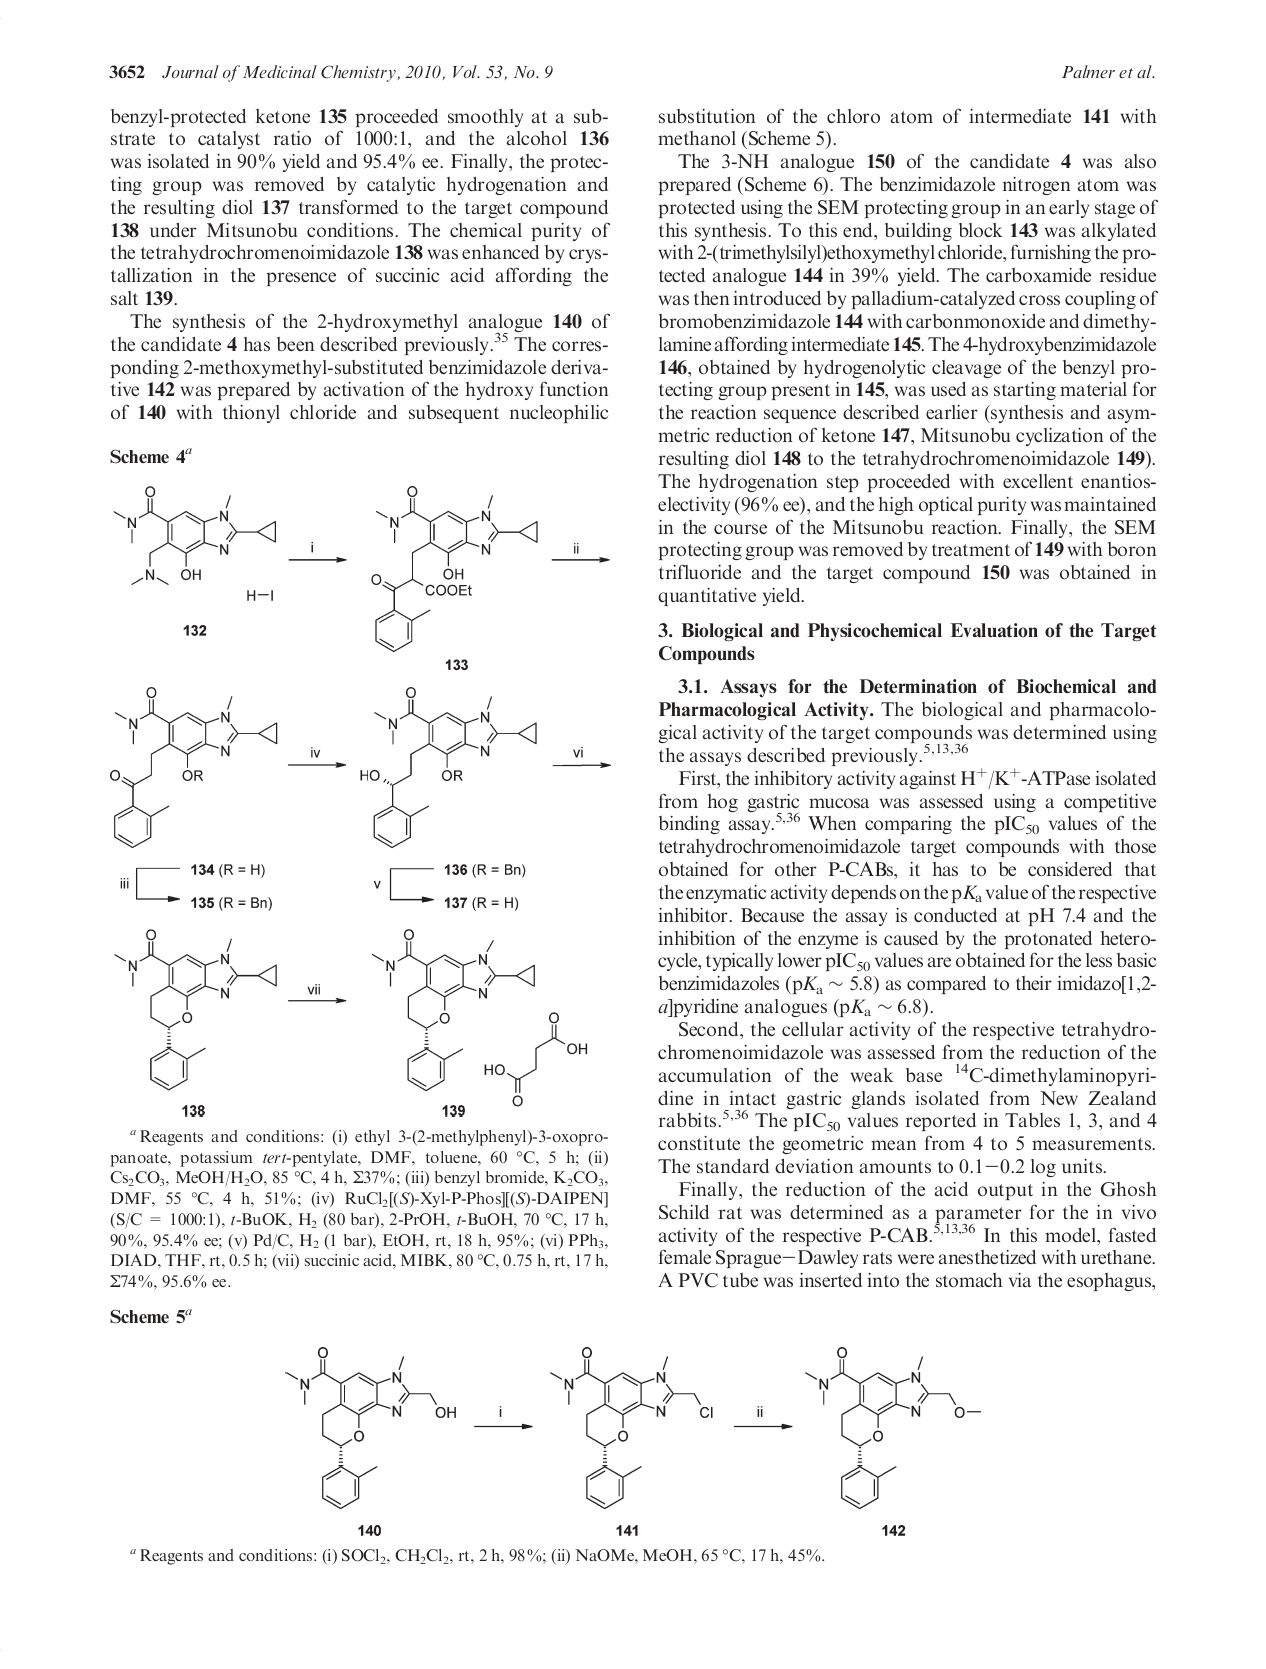exist_molecular: (371, 922, 592, 1098), (355, 475, 544, 658), (801, 1333, 985, 1511), (355, 684, 541, 856), (548, 1330, 719, 1512), (114, 926, 293, 1097), (279, 1347, 467, 1509), (106, 682, 283, 847), (110, 481, 289, 590)
